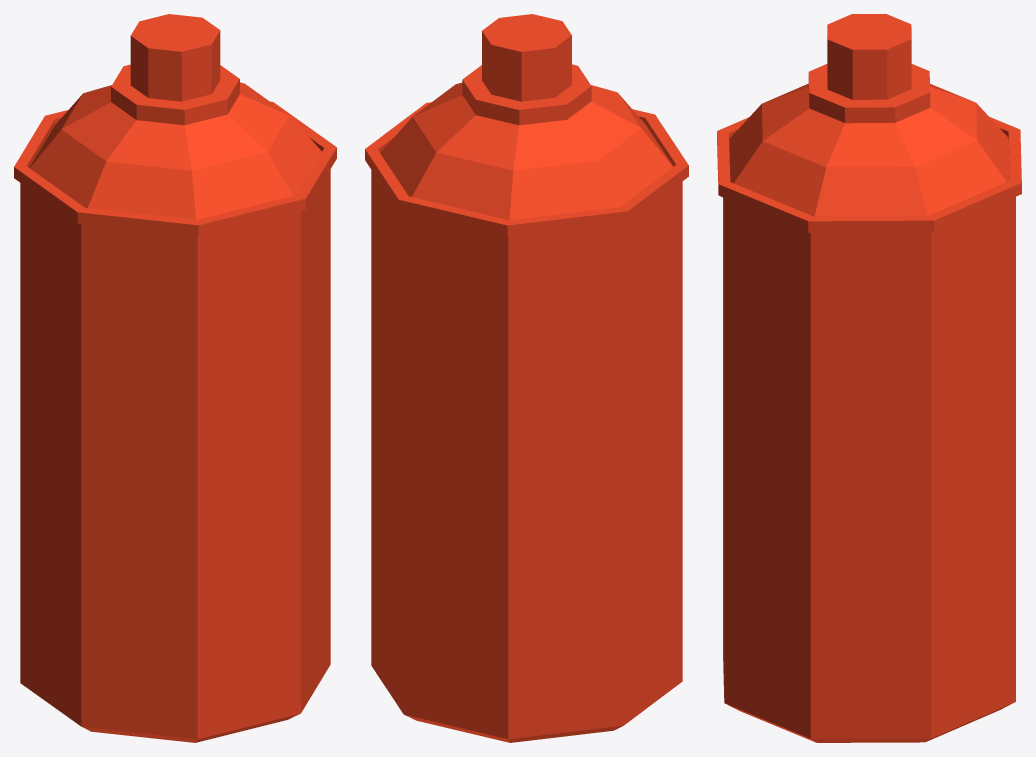
Rendered from SM_Spray_City.fbx.
3 views of the same model, side by side, from view 1: azimuth 30°, elevation 25°; view 2: azimuth 150°, elevation 25°; view 3: azimuth 270°, elevation 25° (orthographic).
Parts seen in each view (by area): view 1: SM_Spray_City; view 2: SM_Spray_City; view 3: SM_Spray_City.
Part boxes in pixels (x1=…): SM_Spray_City: x1=14, y1=14, x2=336, y2=742; SM_Spray_City: x1=365, y1=14, x2=688, y2=742; SM_Spray_City: x1=717, y1=14, x2=1021, y2=742.
Size of the model in its own units: 0.1174 by 0.2787 by 0.1174.
